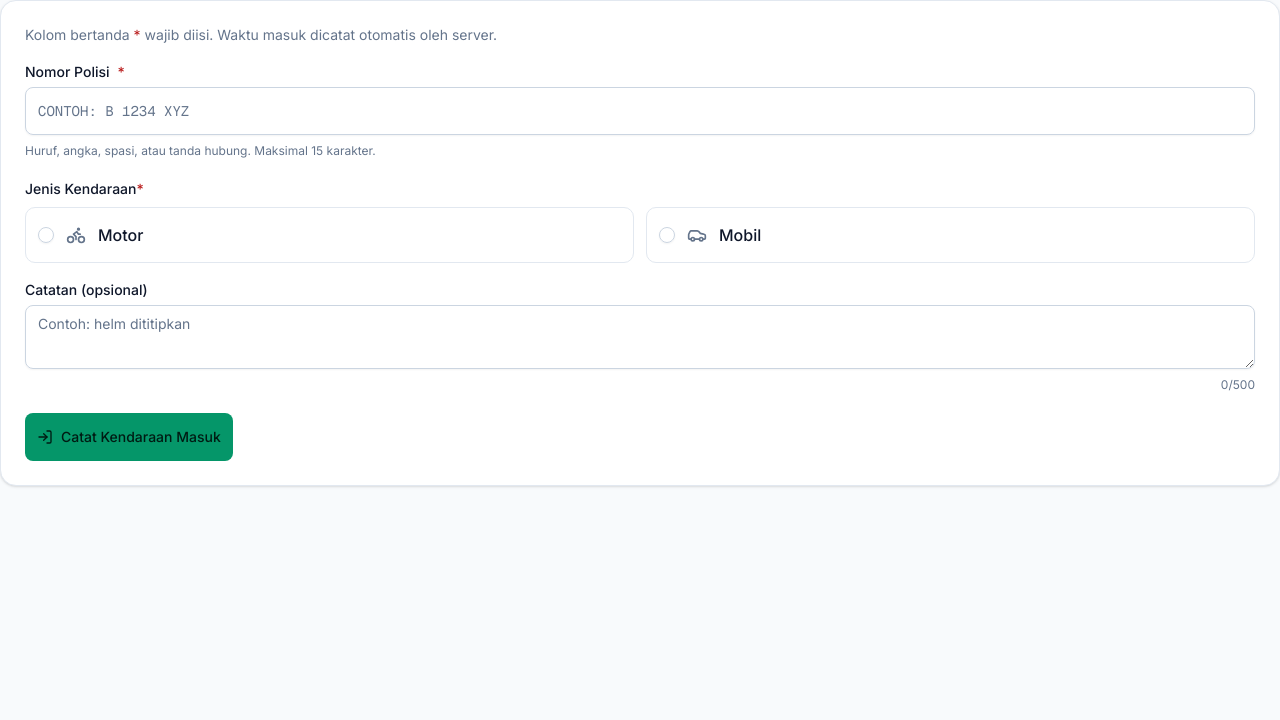
Test: server outcomes › duplicate plate: inline error on the plate plus an error toast, input kept
This screenshot has width=1280, height=720.
In the field labelled "Nomor Polisi *": (640, 111) [25,87,1255,135], type " b  1234  xyz"
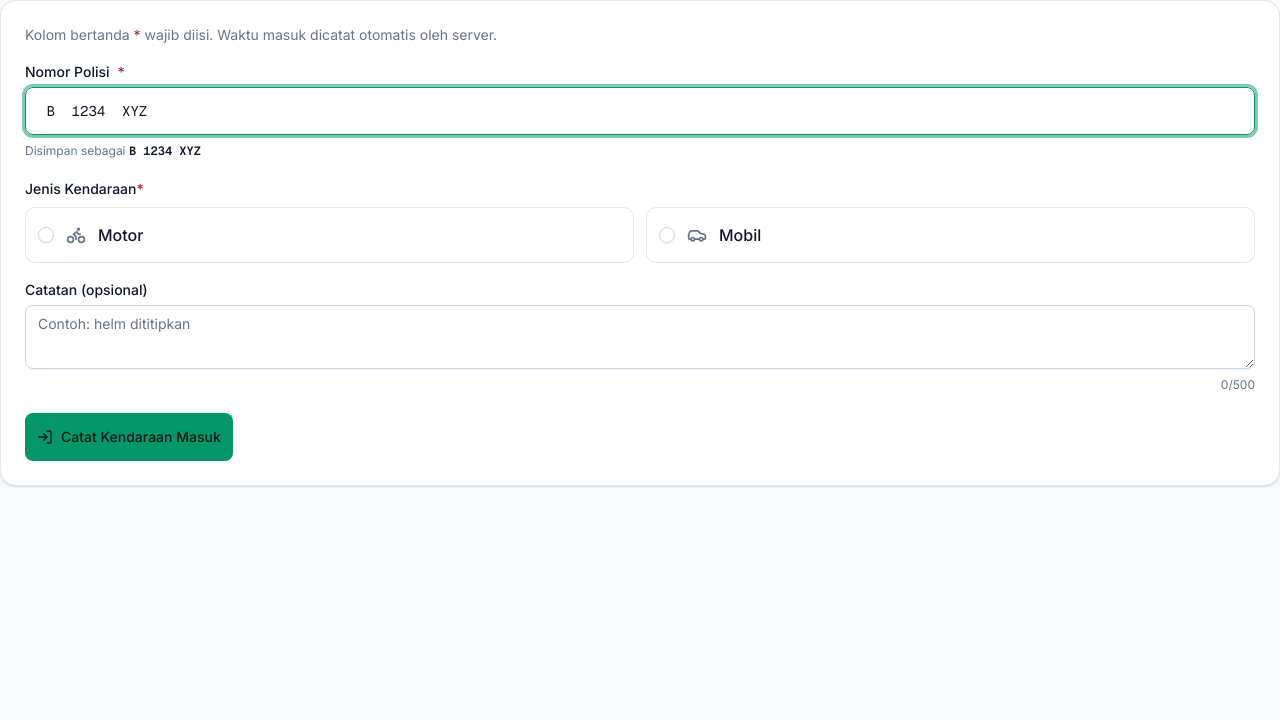
Click the radio button named "Mobil" next to "Mobil": (667, 235) [659,227,675,243]
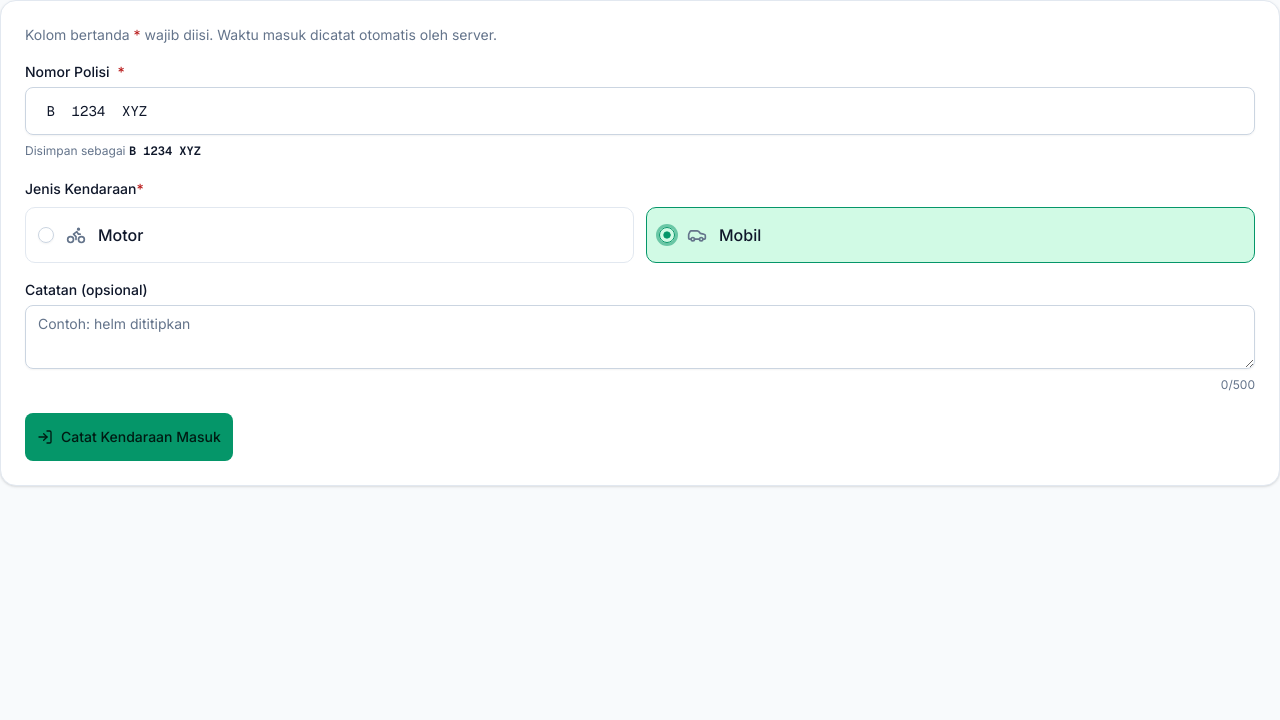
Click the button "Catat Kendaraan Masuk": (129, 437) [25,413,233,461]
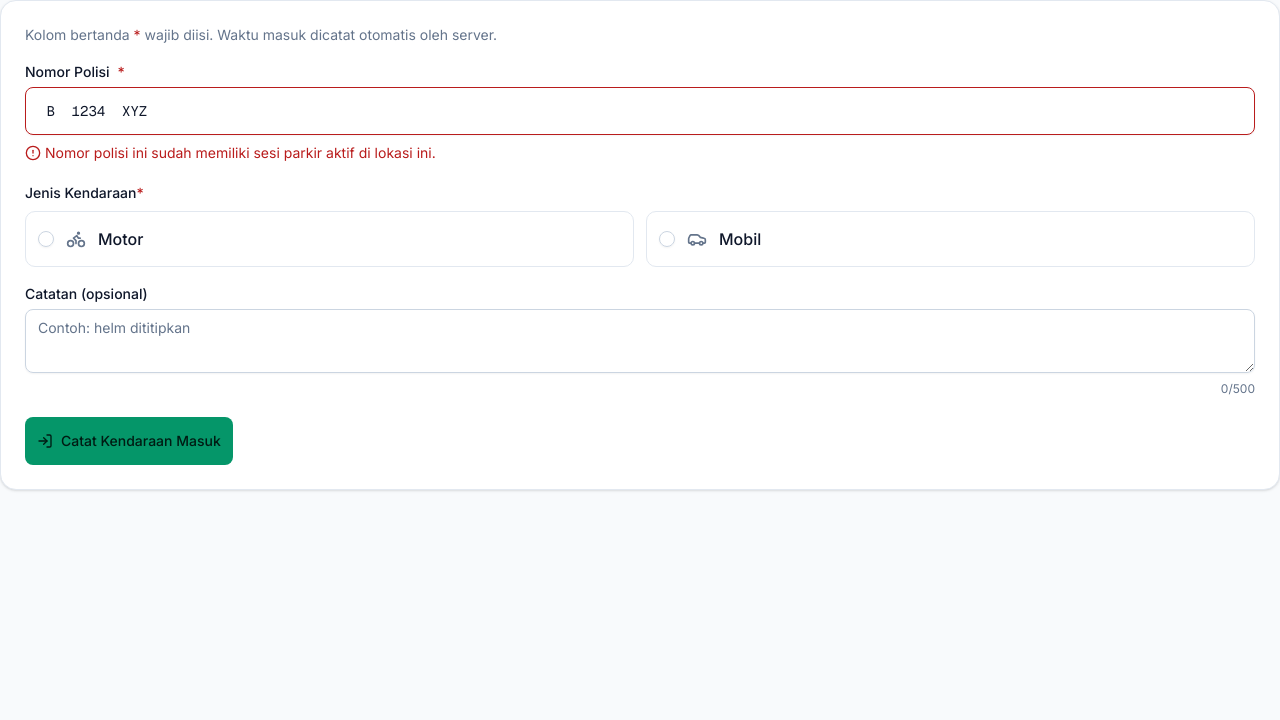
Expected: the text "sudah memiliki sesi parkir aktif" is shown, [45,144,436,161]
